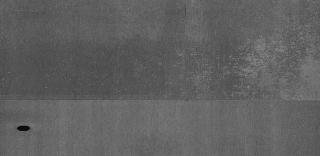punching hole: (15, 124, 33, 132)
welding line: (1, 95, 320, 105)
